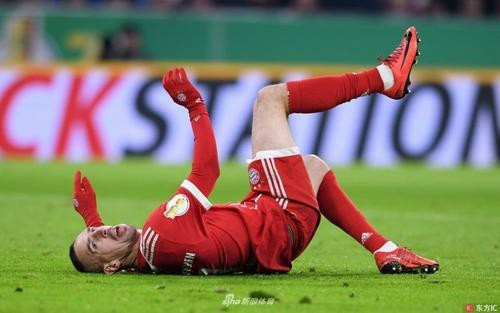falling: (52, 16, 445, 289)
